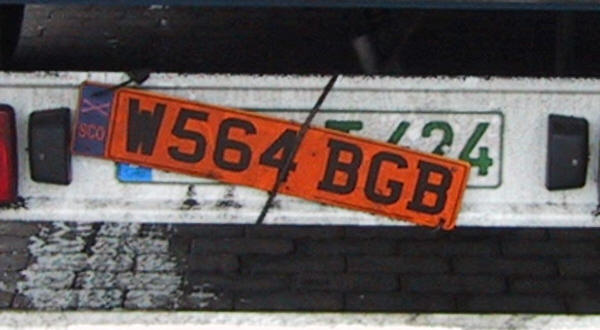license_plate: (67, 82, 472, 232)
